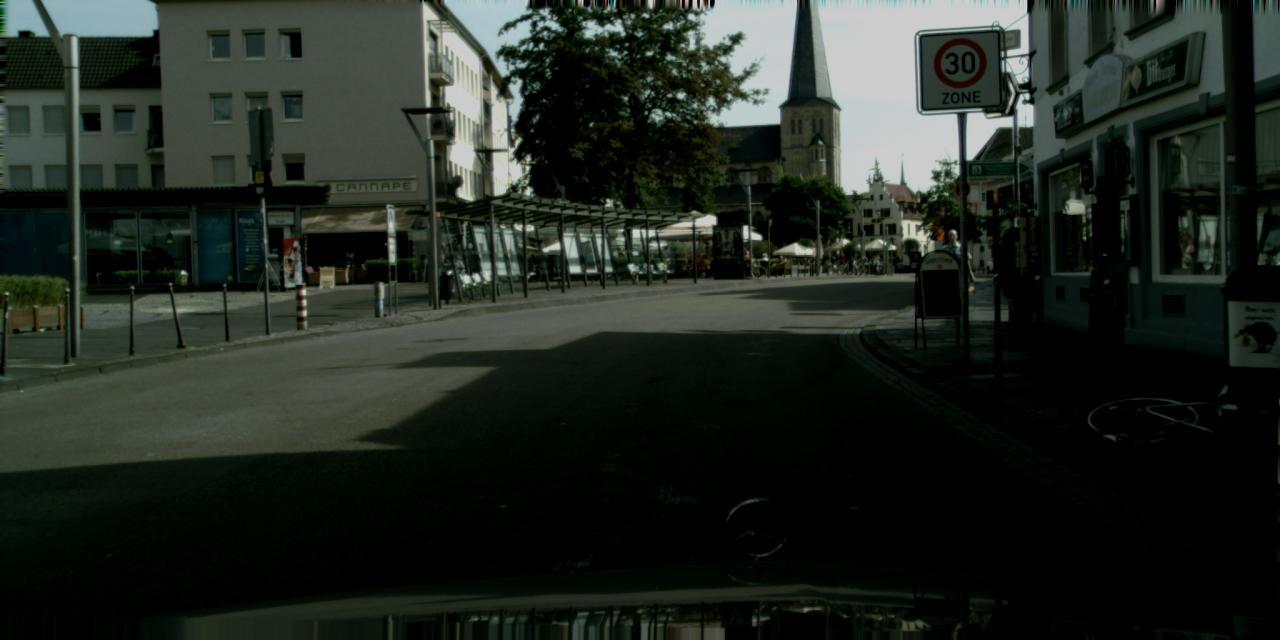ped: (935, 229, 972, 318), (343, 248, 356, 280)
